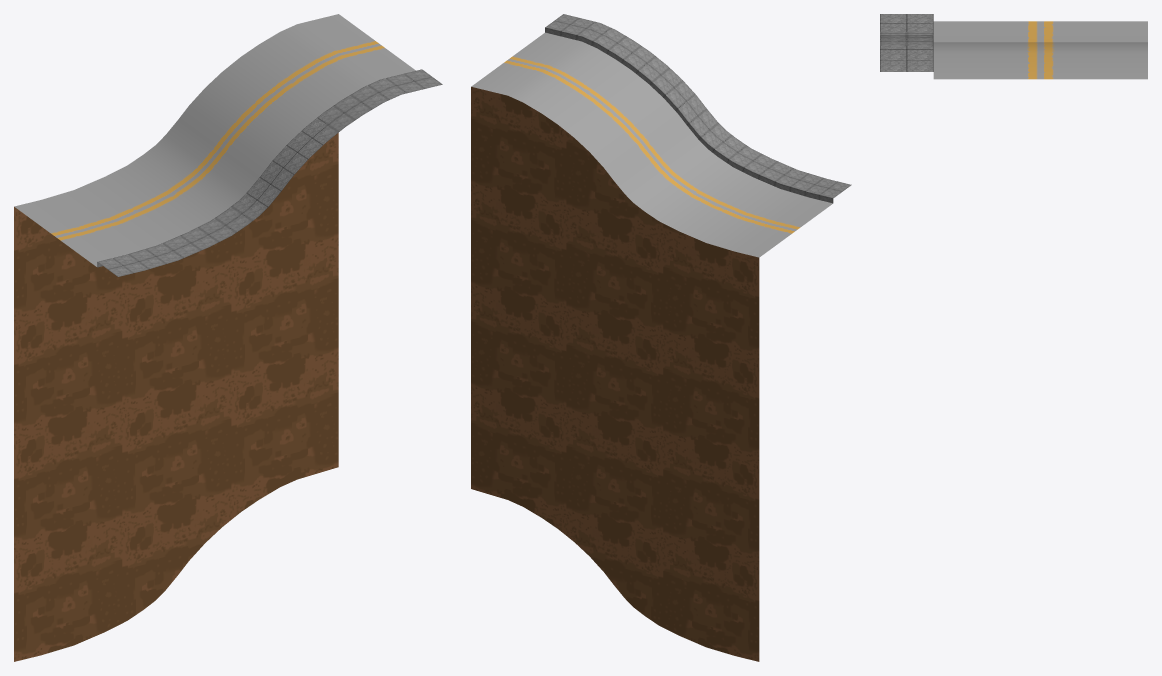
File: Terrain_05_slope_2.FBX
The picture shows the model from 3 angles, left to right: view 1: azimuth 30°, elevation 25°; view 2: azimuth 150°, elevation 25°; view 3: azimuth 270°, elevation 25°; orthographic projection. The views are drawn at different scales.
Visible parts, largest first — view 1: Terrain_05_ground, Terrain_05; view 2: Terrain_05_ground, Terrain_05; view 3: Terrain_05.
Part boxes in pixels (x1,y1,x2,y2): Terrain_05_ground: (14,133,338,661); Terrain_05: (14,14,442,276); Terrain_05_ground: (471,86,759,661); Terrain_05: (471,14,851,257); Terrain_05: (880,14,1147,79).
Size of the model in its own units: 90 by 152 by 50.
